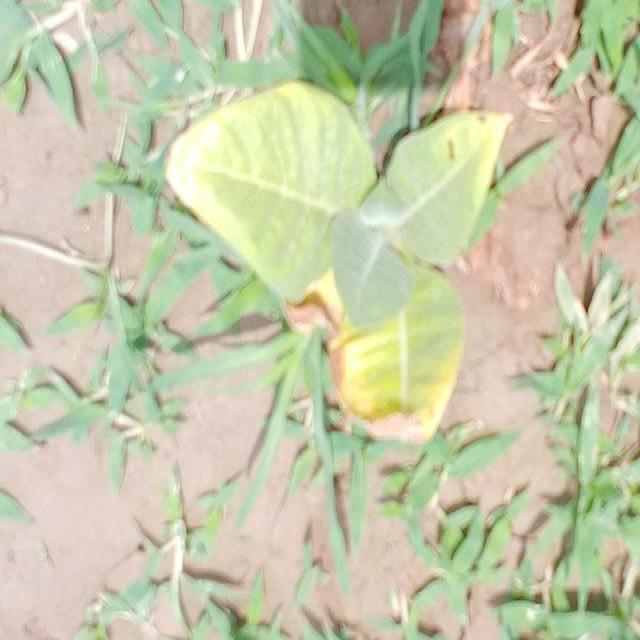crop: (198, 80, 499, 450)
